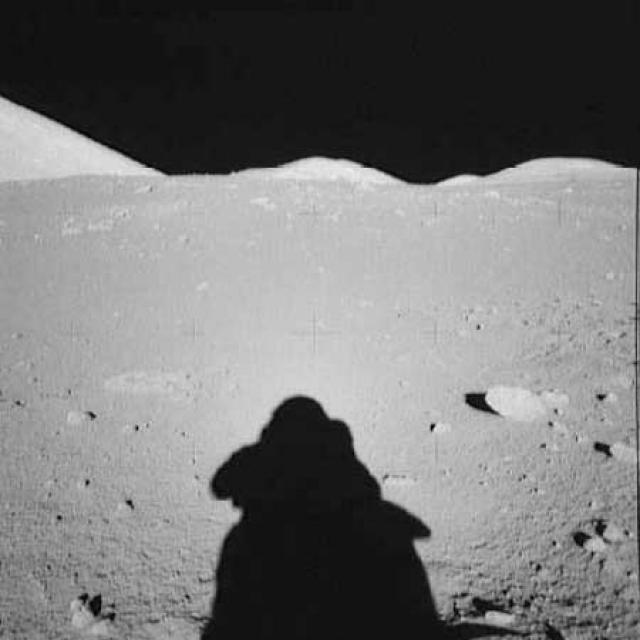rock: (472, 377, 566, 428), (69, 590, 112, 639), (592, 438, 638, 469), (62, 404, 102, 432), (109, 499, 136, 522), (603, 519, 624, 541), (118, 420, 142, 439), (585, 537, 605, 555)
